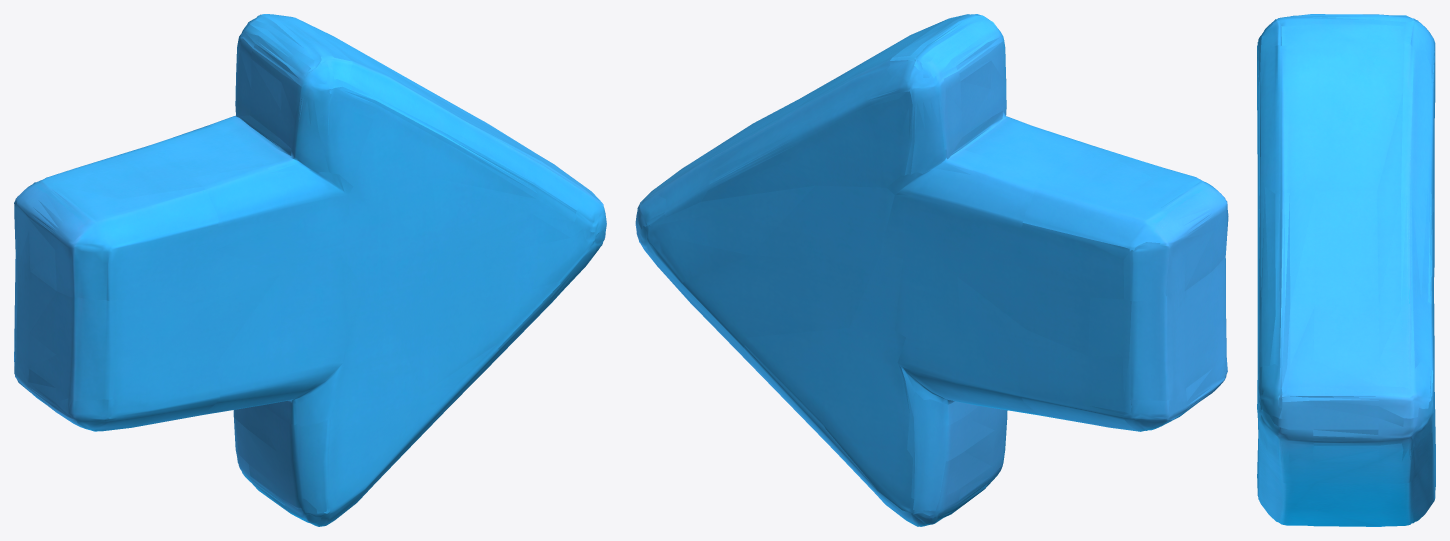
File: Forward_arrow.glb
The picture shows the model from 3 angles, left to right: view 1: azimuth 30°, elevation 25°; view 2: azimuth 150°, elevation 25°; view 3: azimuth 270°, elevation 25°; orthographic projection. The views are drawn at different scales.
Visible parts, largest first — view 1: mesh_node; view 2: mesh_node; view 3: mesh_node.
Part boxes in pixels (x1,y1,x2,y2): mesh_node: (14, 14, 606, 526); mesh_node: (635, 14, 1228, 526); mesh_node: (1257, 14, 1435, 526).
Size of the model in its own units: 1 by 0.8418 by 0.2686.
Materials: 1 (1 with a texture image).
